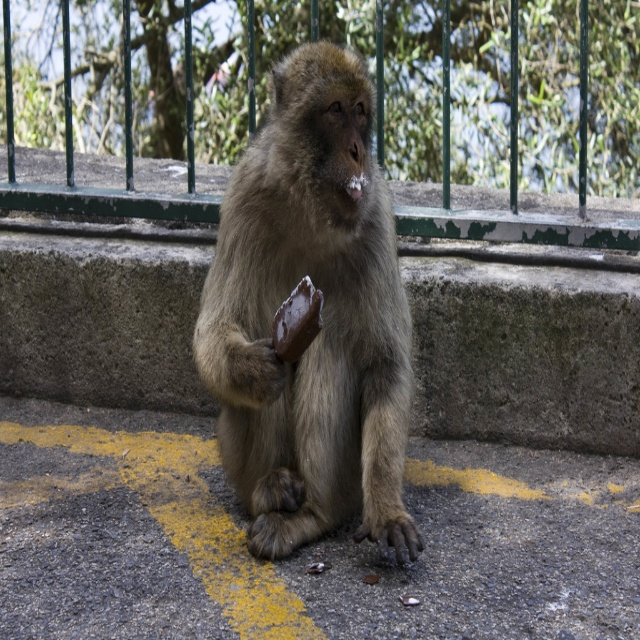Monkey: (193, 41, 426, 567)
